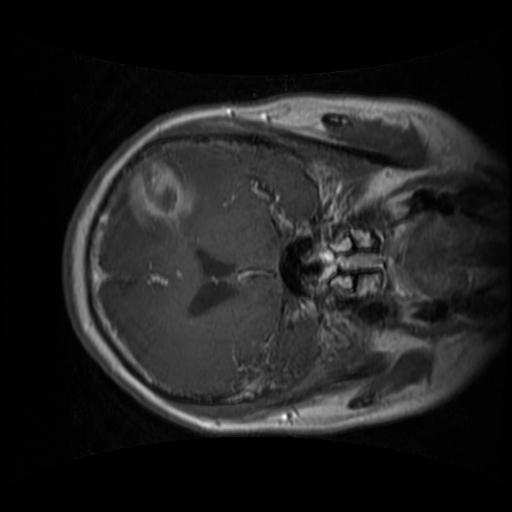glioma: (114, 147, 198, 246)
